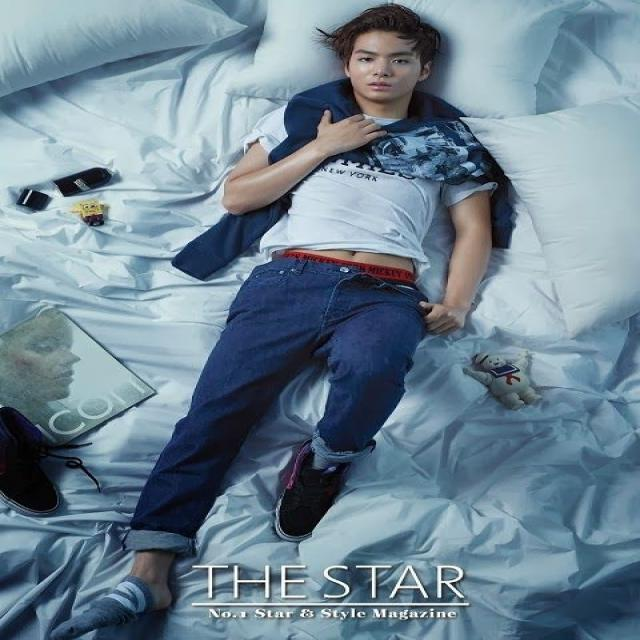lie: (149, 5, 468, 581)
